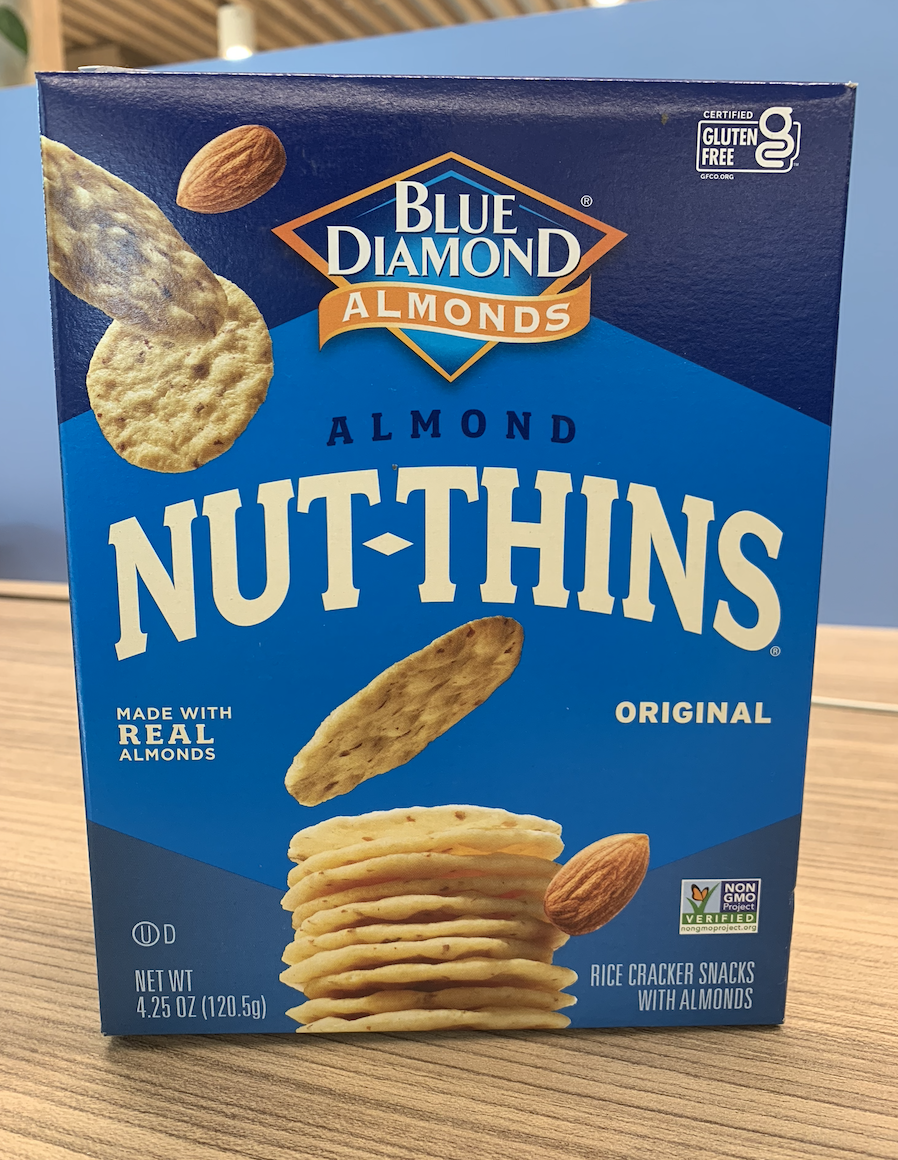crackers_100g-199g: (93, 88, 802, 1026)
